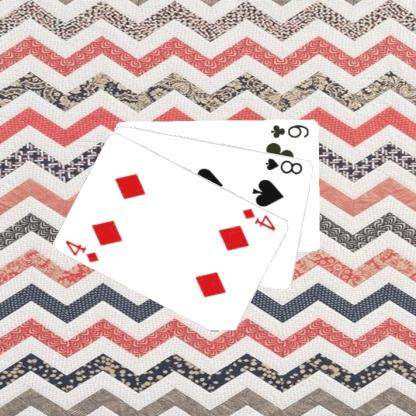4D: (240, 205, 278, 232), (63, 237, 101, 264)
6C: (269, 122, 311, 139)
8S: (262, 155, 304, 176)
